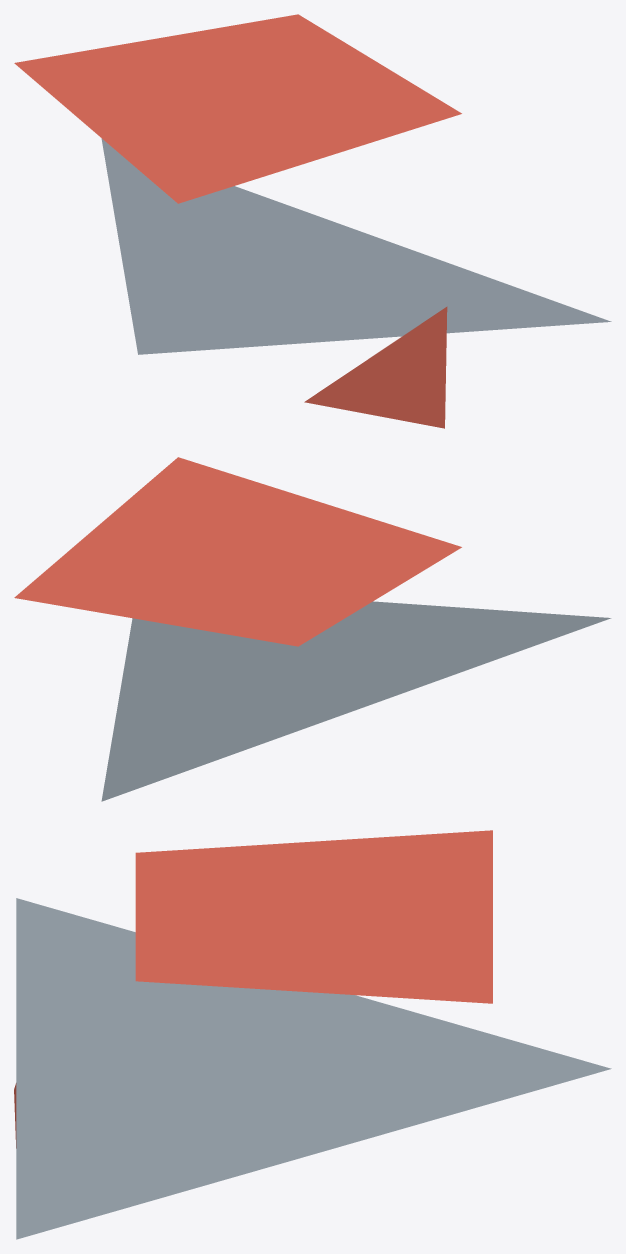
The model's file is SU_WarFactory_LOD2.glb.
3 renders of one model, top to bottom at view 1: azimuth 30°, elevation 25°; view 2: azimuth 150°, elevation 25°; view 3: azimuth 270°, elevation 25°, orthographic. The views are drawn at different scales.
Visible parts, largest first — view 1: EntranceGate; view 2: EntranceGate; view 3: EntranceGate.
Boxes of the visible parts, bbox=[...] form: EntranceGate: bbox=[14, 14, 611, 428]; EntranceGate: bbox=[14, 457, 611, 801]; EntranceGate: bbox=[14, 830, 611, 1239].
Size of the model in its own units: 800 by 417 by 803.
